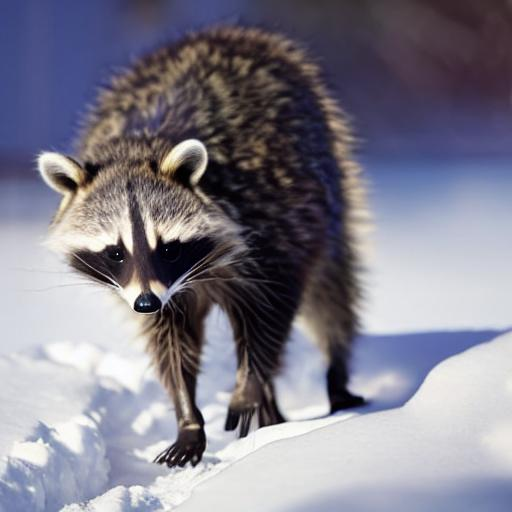raccoon: (25, 12, 384, 380)
